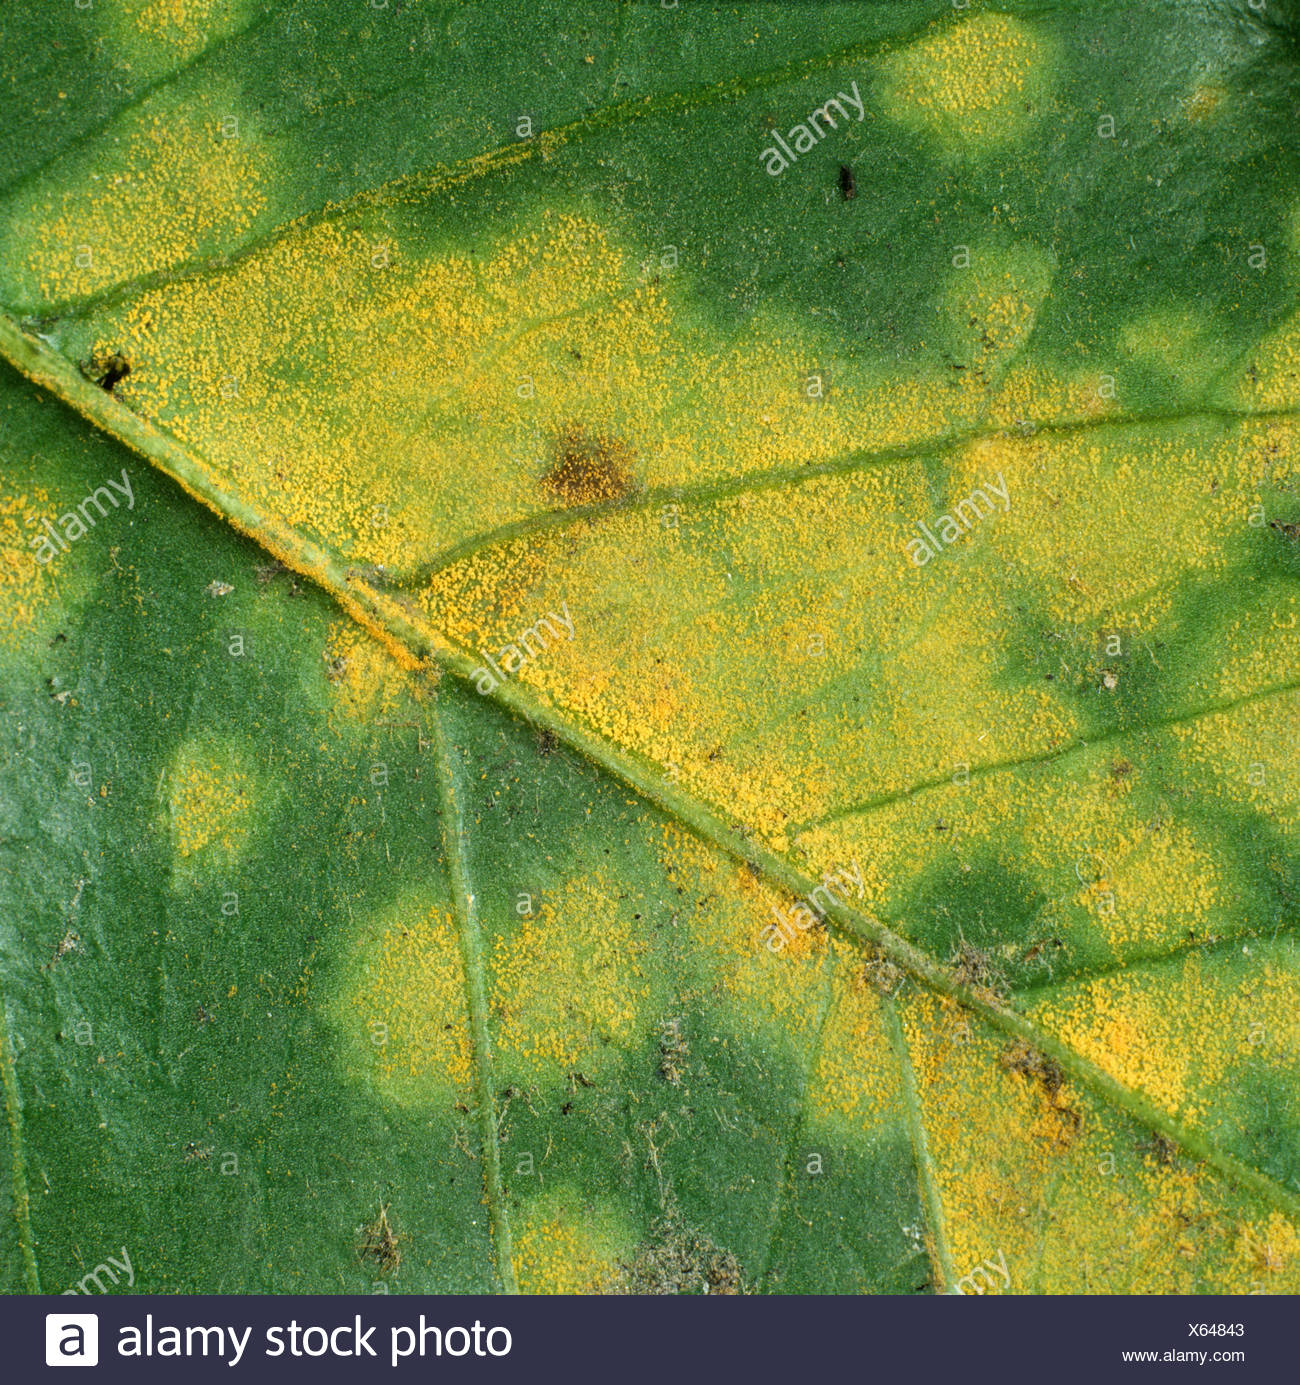roya: (46, 62, 1285, 1282)
